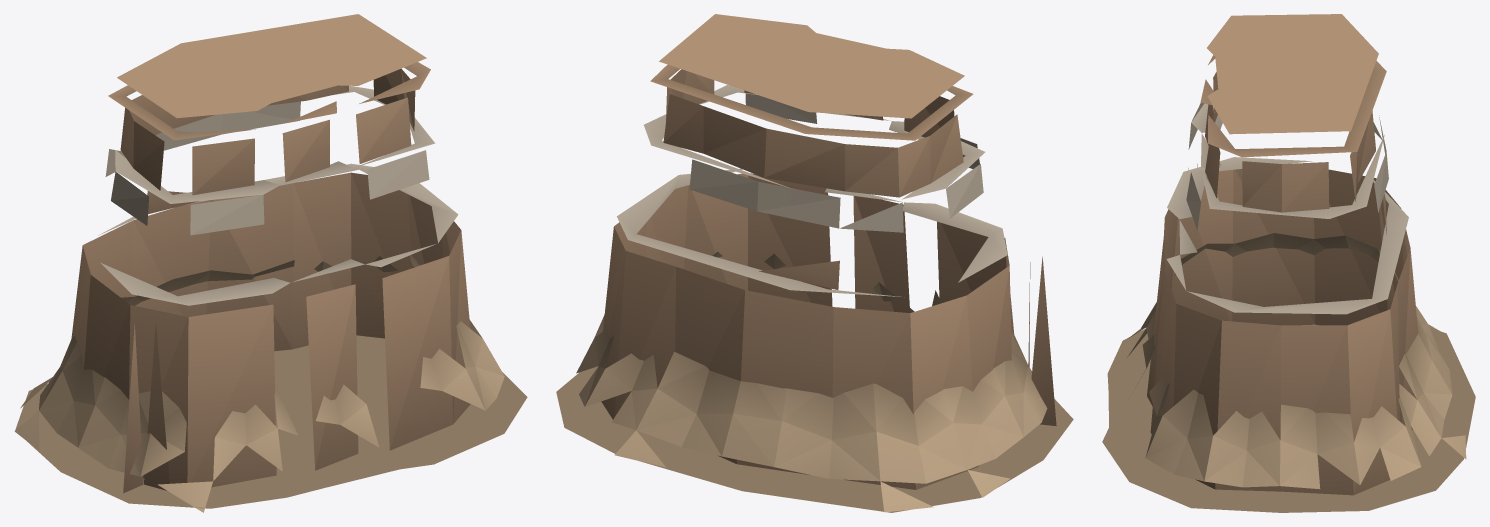
File: mesa.lod.glb
3 views of the same model, side by side, from view 1: azimuth 30°, elevation 25°; view 2: azimuth 150°, elevation 25°; view 3: azimuth 270°, elevation 25° (orthographic). The views are drawn at different scales.
Parts seen in each view (by area): view 1: mesa.001; view 2: mesa.001; view 3: mesa.001.
Part boxes in pixels (<box>): mesa.001: <box>14,14,527,512</box>; mesa.001: <box>556,14,1073,512</box>; mesa.001: <box>1102,14,1475,512</box>.
Size of the model in its own units: 31.88 by 24.24 by 24.22.
